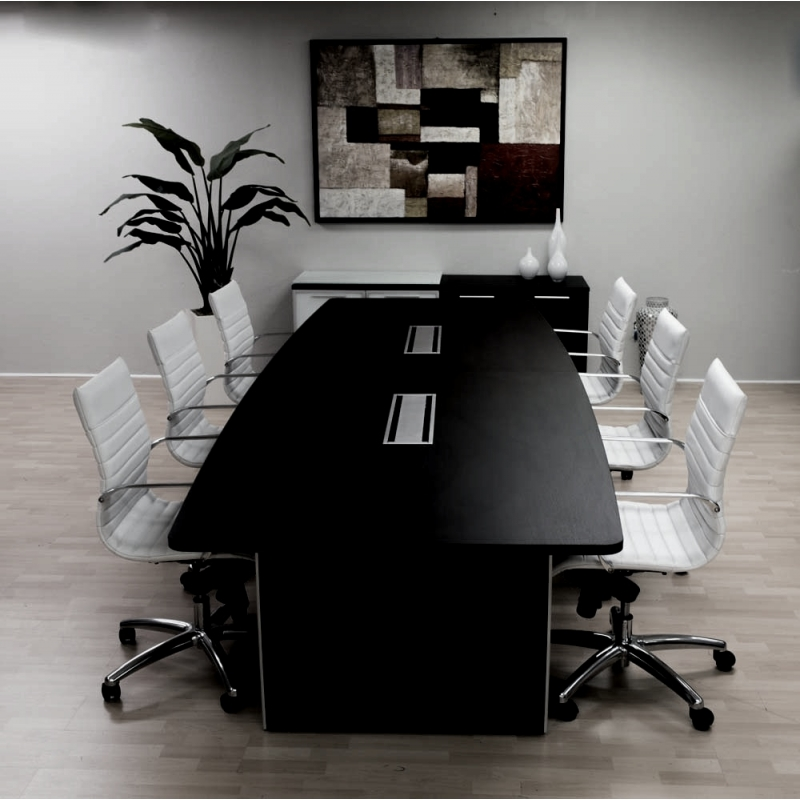conference_table: (167, 296, 623, 733)
